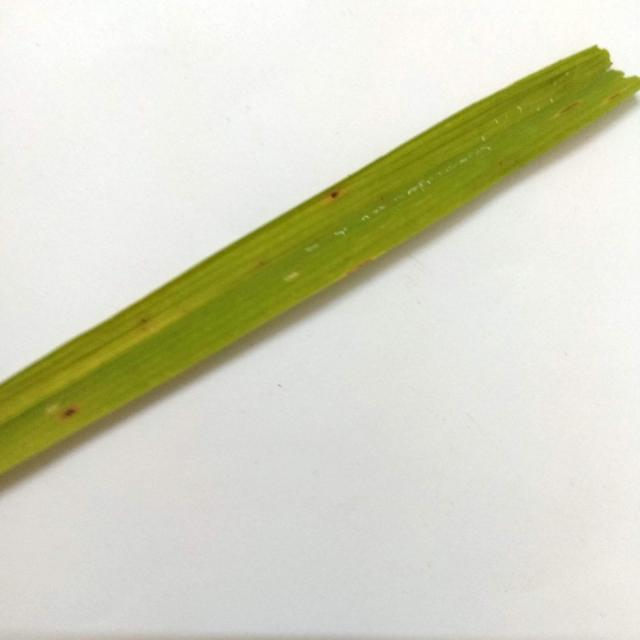Brown spot: (0, 42, 640, 480)
